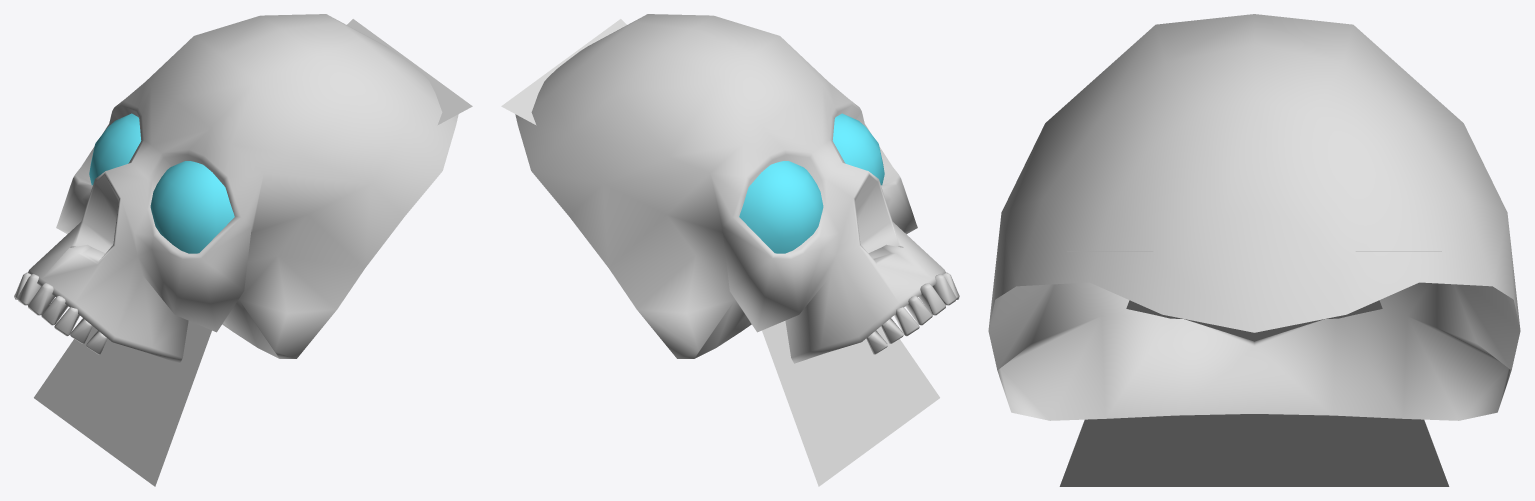
File: Mod_Pauldron_R_Brains1.fbx
The picture shows the model from 3 angles, left to right: view 1: azimuth 30°, elevation 25°; view 2: azimuth 150°, elevation 25°; view 3: azimuth 270°, elevation 25°; orthographic projection. The views are drawn at different scales.
Visible parts, largest first — view 1: Mod_Pauldron_R_Brains1; view 2: Mod_Pauldron_R_Brains1; view 3: Mod_Pauldron_R_Brains1.
Boxes of the visible parts, left/top/right/bottom form: Mod_Pauldron_R_Brains1: left=14, top=14, right=472, bottom=486; Mod_Pauldron_R_Brains1: left=501, top=14, right=959, bottom=486; Mod_Pauldron_R_Brains1: left=988, top=14, right=1520, bottom=486.
Bounding box in the file's own units: 287 × 240 × 197.
